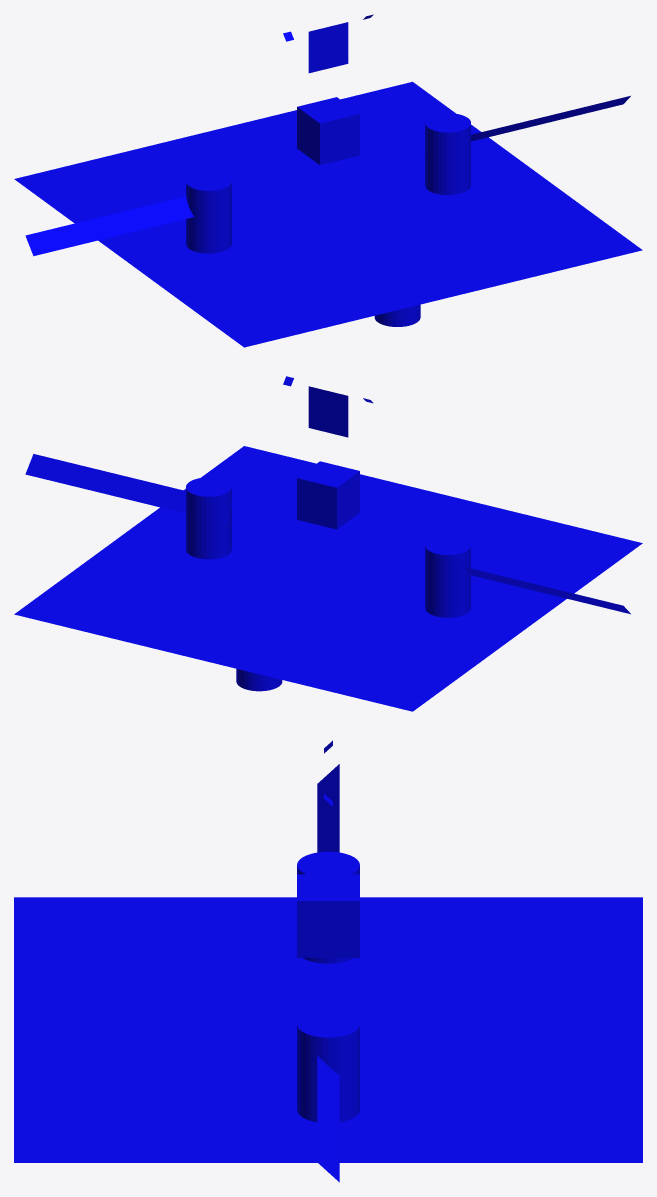
File: 20260311_192412_blue_plane_blue.glb
3 views of the same model, one above another, from view 1: azimuth 30°, elevation 25°; view 2: azimuth 150°, elevation 25°; view 3: azimuth 270°, elevation 25° (orthographic). The views are drawn at different scales.
Parts seen in each view (by area): view 1: Plane, Plane.001, Cylinder.001, Cube, Cylinder, Plane.003, Plane.002, Cylinder.002; view 2: Plane, Plane.002, Cylinder.001, Cylinder, Cube, Plane.003, Plane.001, Cylinder.003; view 3: Plane, Cylinder.001, Cube, Plane.002, Plane.001, Cylinder.
Boxes of the visible parts, x1,y1,x2,y2 form: Plane: (14, 81, 642, 347); Plane.001: (25, 196, 232, 256); Cylinder.001: (425, 113, 470, 195); Cube: (297, 97, 359, 165); Cylinder: (186, 171, 231, 253); Plane.003: (308, 22, 348, 73); Plane.002: (424, 96, 630, 152); Cylinder.002: (374, 304, 420, 326); Plane: (14, 446, 642, 711); Plane.002: (25, 454, 232, 522); Cylinder.001: (186, 477, 231, 559); Cylinder: (425, 535, 470, 617); Cube: (297, 461, 359, 529); Plane.003: (308, 386, 348, 437); Plane.001: (424, 557, 630, 614); Cylinder.003: (236, 669, 282, 691); Plane: (14, 897, 642, 1162); Cylinder.001: (297, 1011, 359, 1122); Cube: (297, 874, 359, 957); Plane.002: (317, 1055, 339, 1182); Plane.001: (317, 764, 339, 852); Cylinder: (297, 851, 359, 963).
Size of the model in its own units: 15 by 5.82 by 10.
